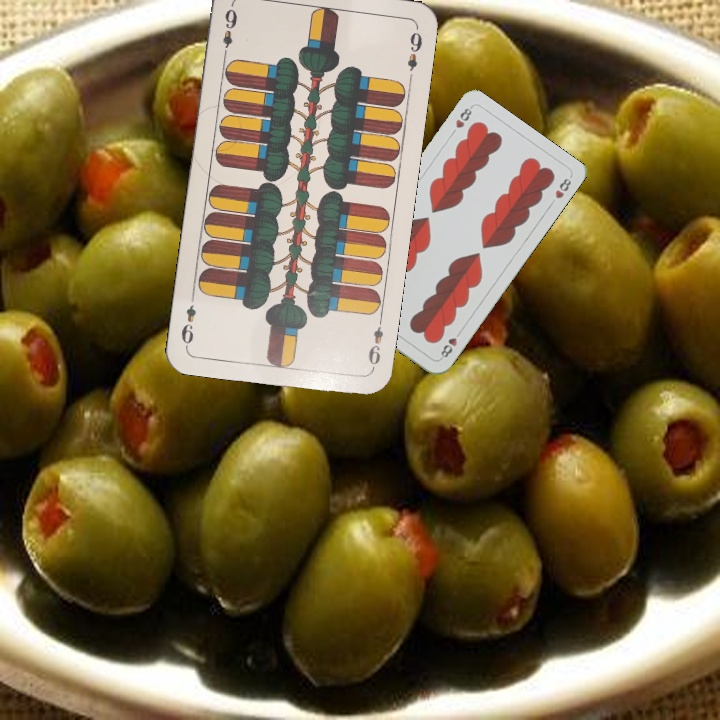E9: (364, 314, 386, 373), (219, 4, 240, 61)
H8: (436, 326, 464, 362), (451, 103, 475, 131)
